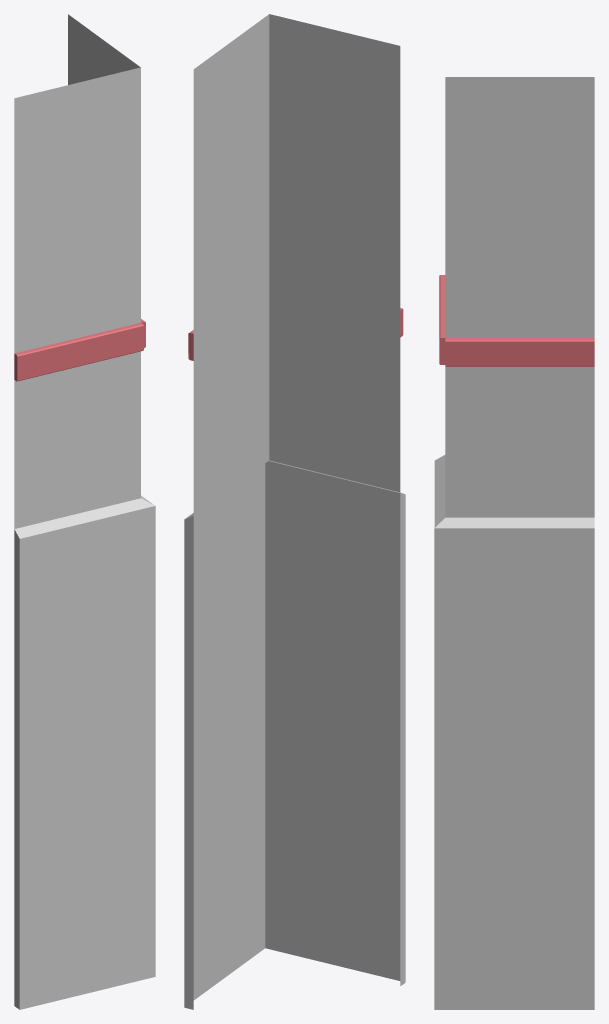
The model's file is Hallway_Wall.010.fbx.
3 views of the same model, side by side, from view 1: azimuth 30°, elevation 25°; view 2: azimuth 150°, elevation 25°; view 3: azimuth 270°, elevation 25° (orthographic). The views are drawn at different scales.
Parts seen in each view (by area): view 1: Hallway_Wall.010; view 2: Hallway_Wall.010; view 3: Hallway_Wall.010.
Boxes of the visible parts, box(x1,y1,x2,y2) form: Hallway_Wall.010: box(14, 14, 155, 1009); Hallway_Wall.010: box(184, 14, 405, 1009); Hallway_Wall.010: box(434, 77, 594, 1009).
Bounding box in the file's own units: 43 × 275 × 43.
